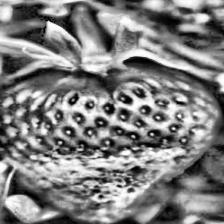Gray Mold: (0, 143, 190, 224)
